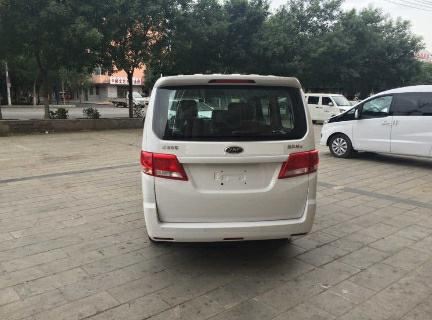江淮-瑞风: (138, 71, 321, 250)
